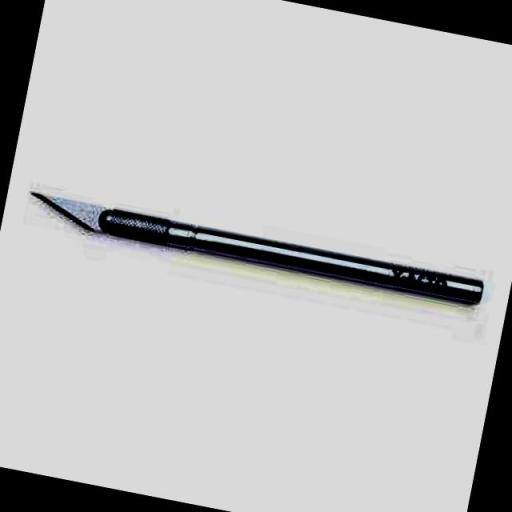knife: (20, 182, 490, 321)
